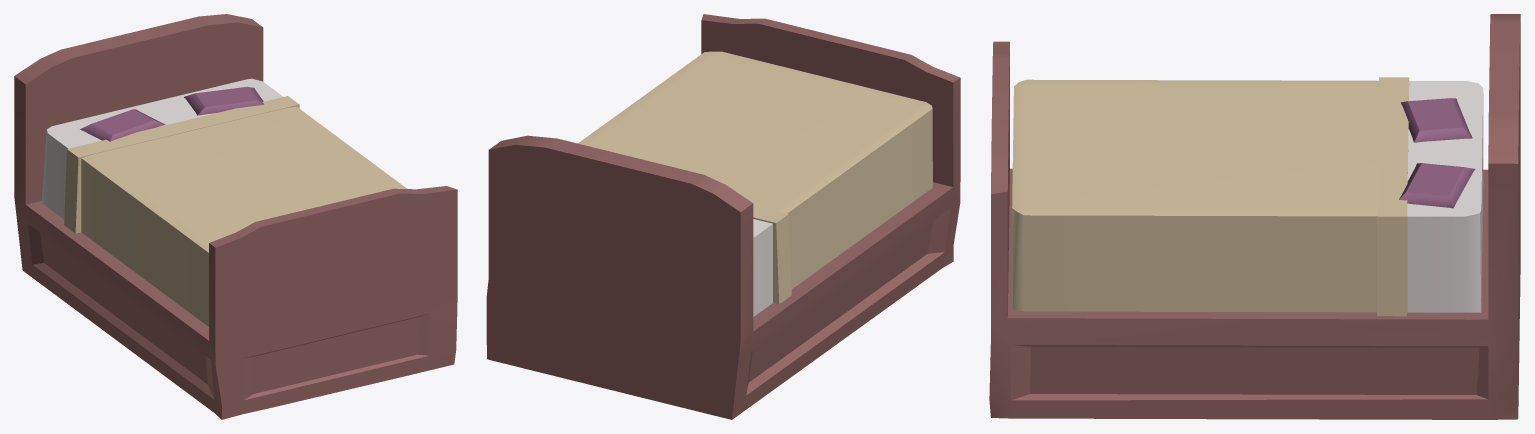
The model's file is BigBedColor2.fbx.
The picture shows the model from 3 angles, left to right: view 1: azimuth 30°, elevation 25°; view 2: azimuth 150°, elevation 25°; view 3: azimuth 270°, elevation 25°; orthographic projection. The views are drawn at different scales.
Visible parts, largest first — view 1: pasted__pCube32, pasted__pCube34, pasted__pasted__pCube33, pasted__pCube33; view 2: pasted__pCube32, pasted__pCube34; view 3: pasted__pCube34, pasted__pCube32, pasted__pasted__pCube33, pasted__pCube33.
Part boxes in pixels (bbox=[...]): pasted__pCube32: bbox=[14, 14, 457, 419]; pasted__pCube34: bbox=[41, 78, 406, 326]; pasted__pasted__pCube33: bbox=[184, 86, 264, 115]; pasted__pCube33: bbox=[80, 109, 165, 141]; pasted__pCube32: bbox=[486, 14, 960, 419]; pasted__pCube34: bbox=[578, 51, 932, 316]; pasted__pCube34: bbox=[1012, 77, 1483, 316]; pasted__pCube32: bbox=[989, 14, 1520, 419]; pasted__pasted__pCube33: bbox=[1399, 163, 1482, 208]; pasted__pCube33: bbox=[1401, 98, 1472, 142].
Bounding box in the file's own units: 1.41 × 1.18 × 2.07.
